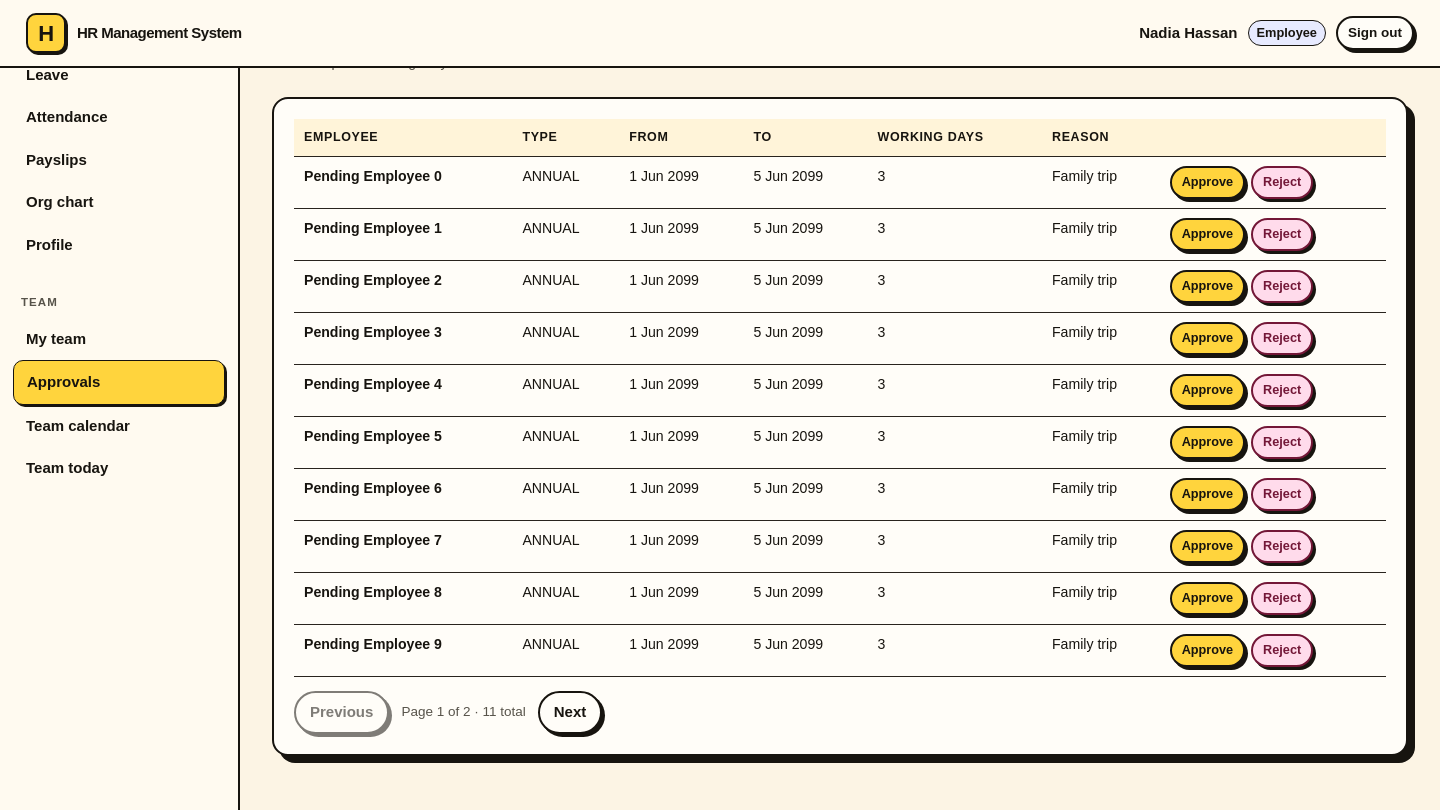
Test: approval pagination recovery › returns to a valid page after deciding the sole request on the last page
(page scrolled)
Check: the column heading "Pending Employee 0" is shown, box left=294, top=156, right=512, bottom=208
Click the button "Next": (570, 713) left=538, top=691, right=602, bottom=734
(page scrolled)
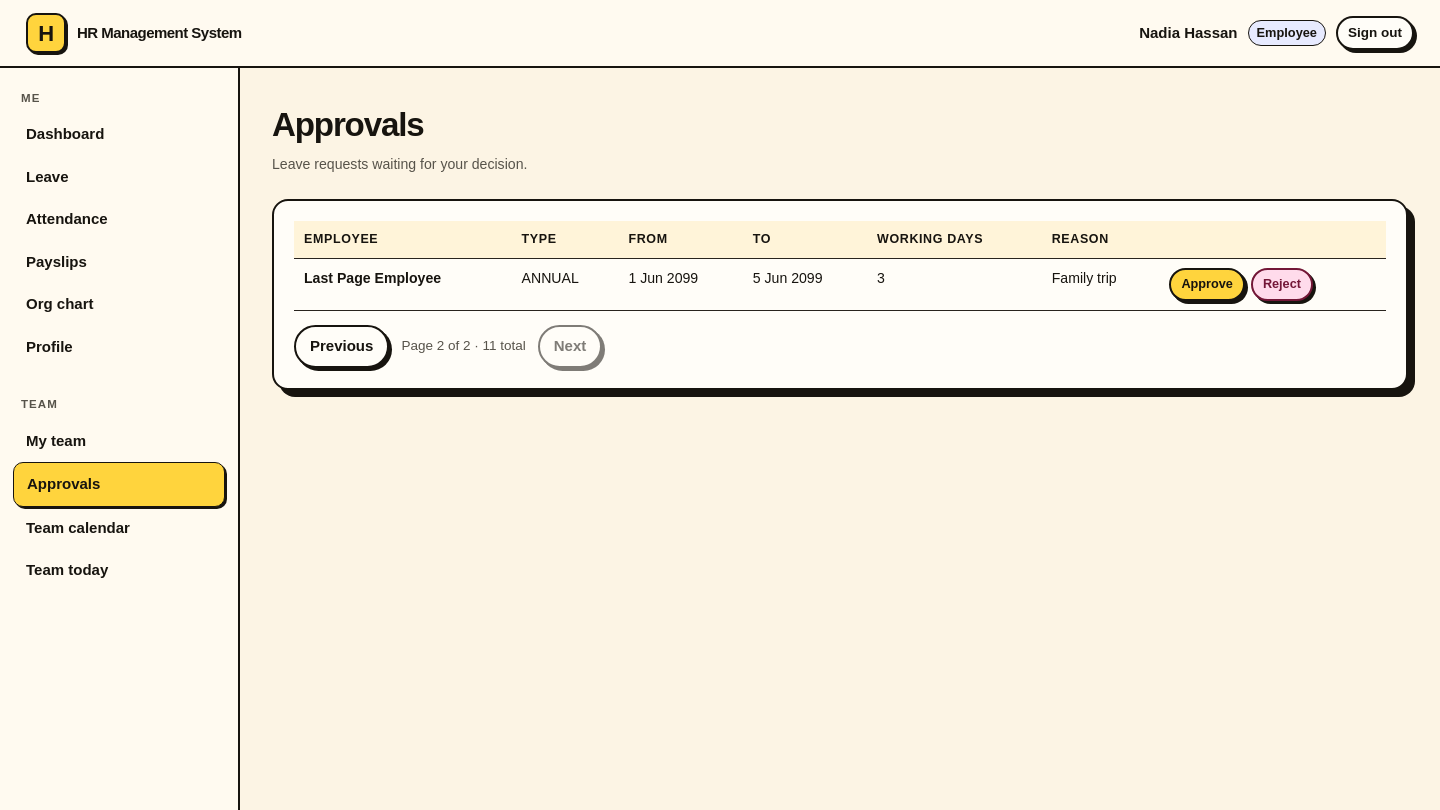
Click the button with aria-label "Approve Last Page Employee": (1207, 284) left=1169, top=268, right=1245, bottom=300
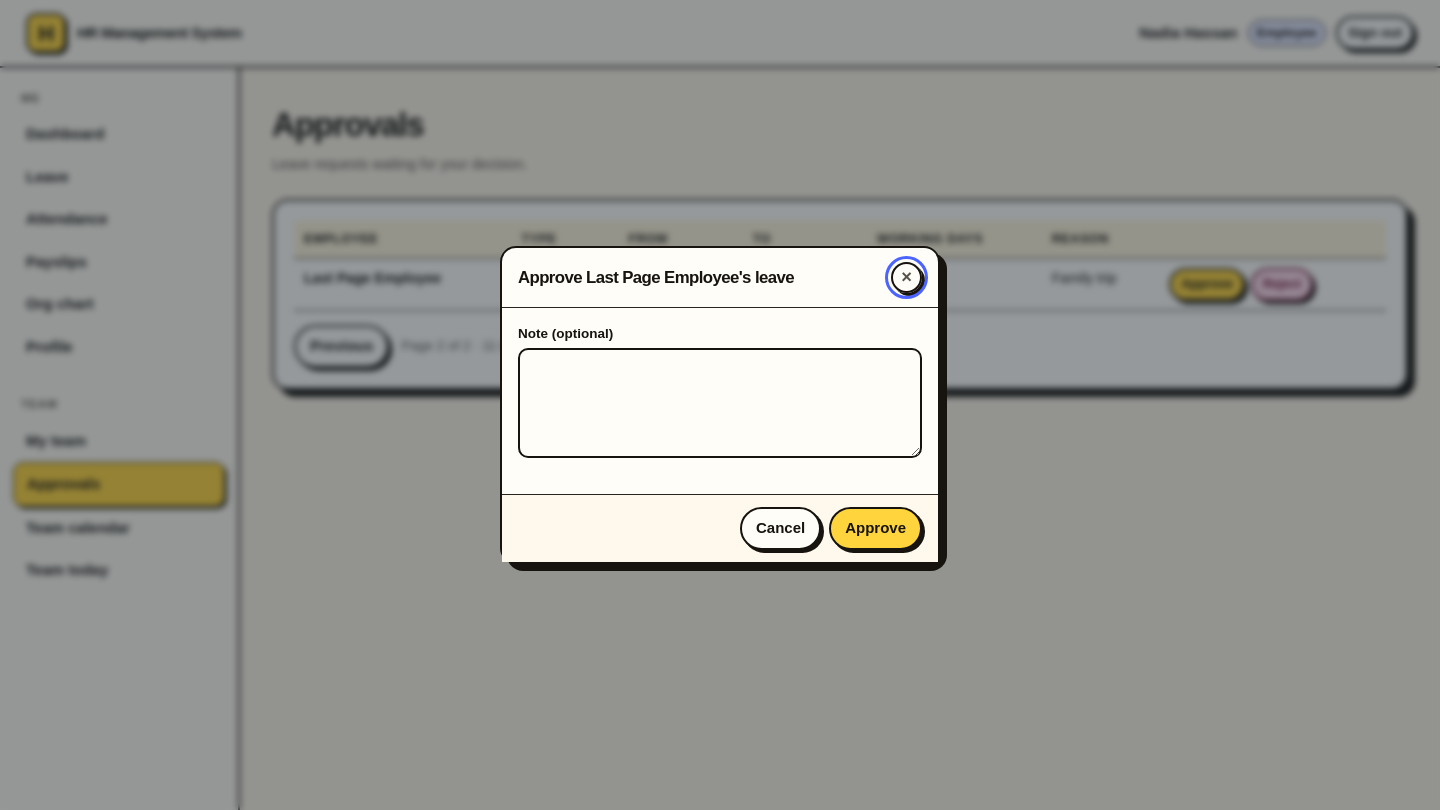
Click the button "Approve": (876, 529) left=829, top=507, right=922, bottom=550
(page scrolled)
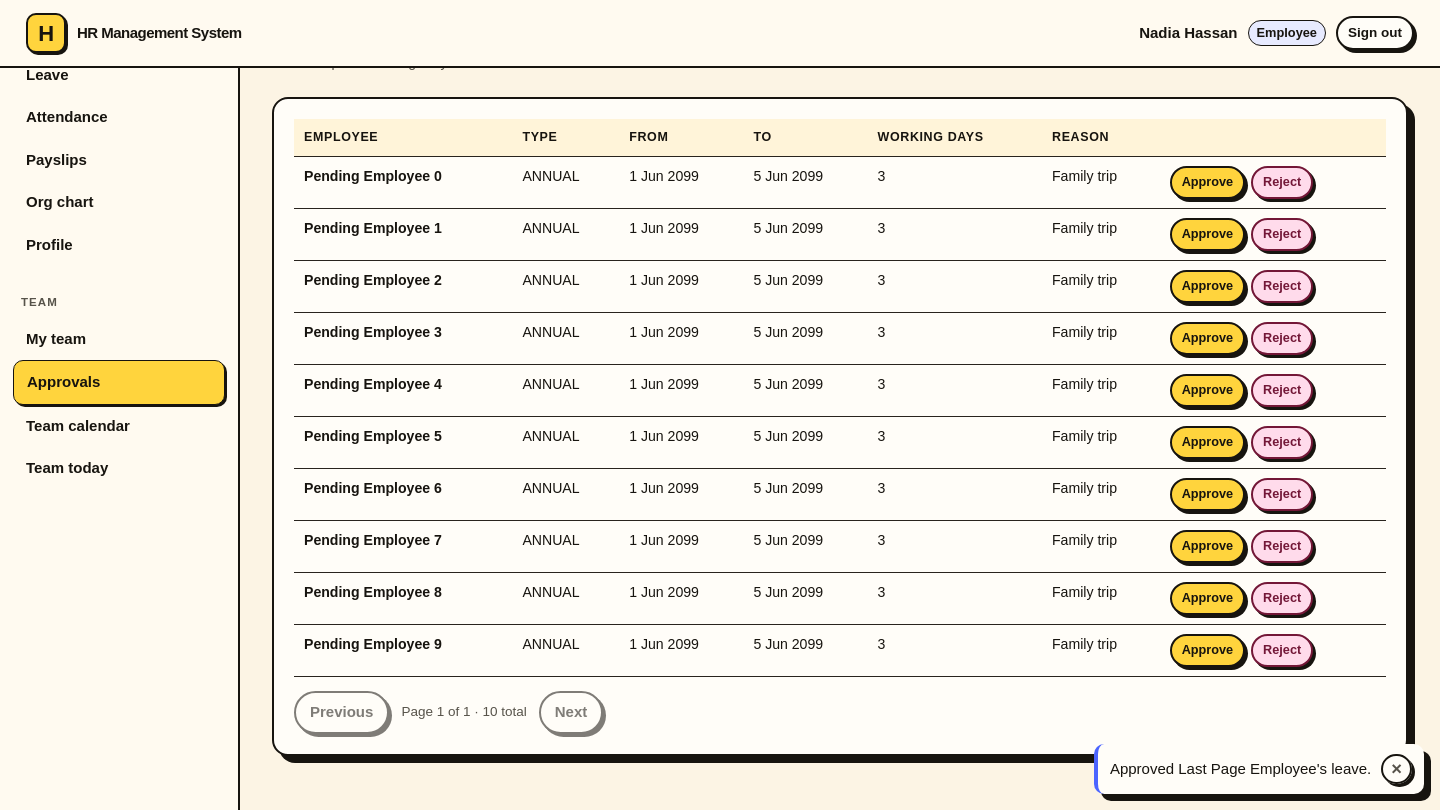
Check: the column heading "Pending Employee 0" is shown, box left=294, top=156, right=512, bottom=208
Check: the text "Page 1 of 1 · 10 total" is shown, box left=401, top=702, right=527, bottom=723
